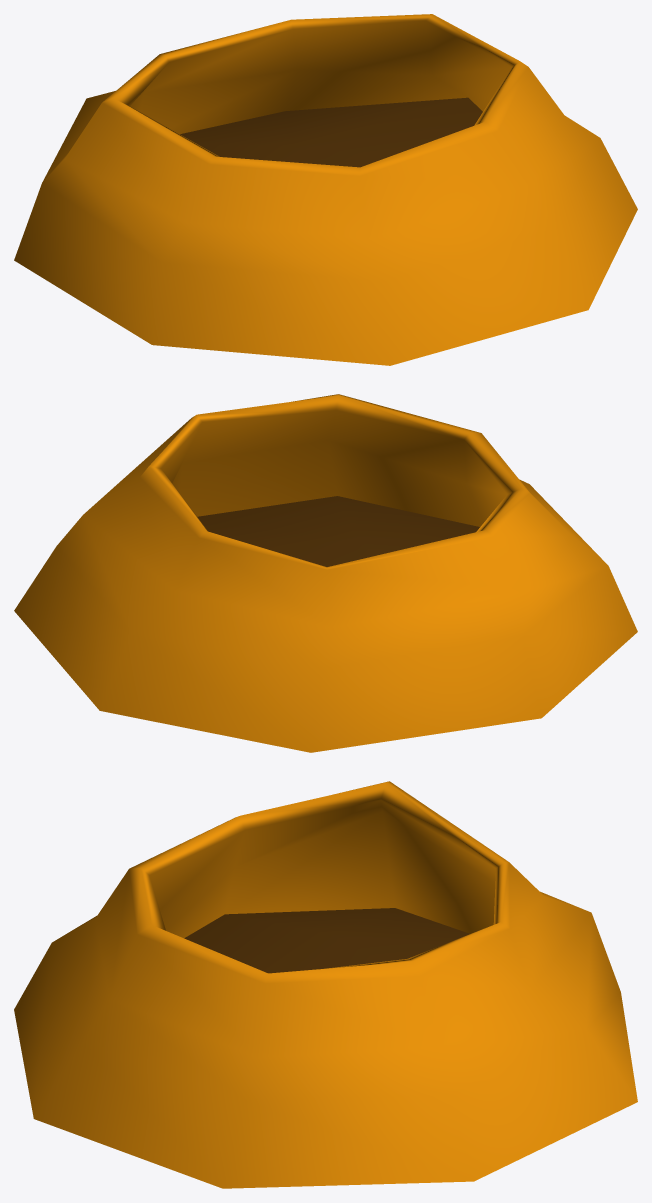
File: LavaPit04_mesh.fbx
3 renders of one model, top to bottom at view 1: azimuth 30°, elevation 25°; view 2: azimuth 150°, elevation 25°; view 3: azimuth 270°, elevation 25°, orthographic. The views are drawn at different scales.
Parts seen in each view (by area): view 1: Pit04_mesh; view 2: Pit04_mesh; view 3: Pit04_mesh.
Boxes of the visible parts, bbox=[...] form: Pit04_mesh: bbox=[14, 14, 637, 365]; Pit04_mesh: bbox=[14, 394, 637, 752]; Pit04_mesh: bbox=[14, 781, 637, 1188].
Size of the model in its own units: 1.27 by 0.3841 by 1.23.
